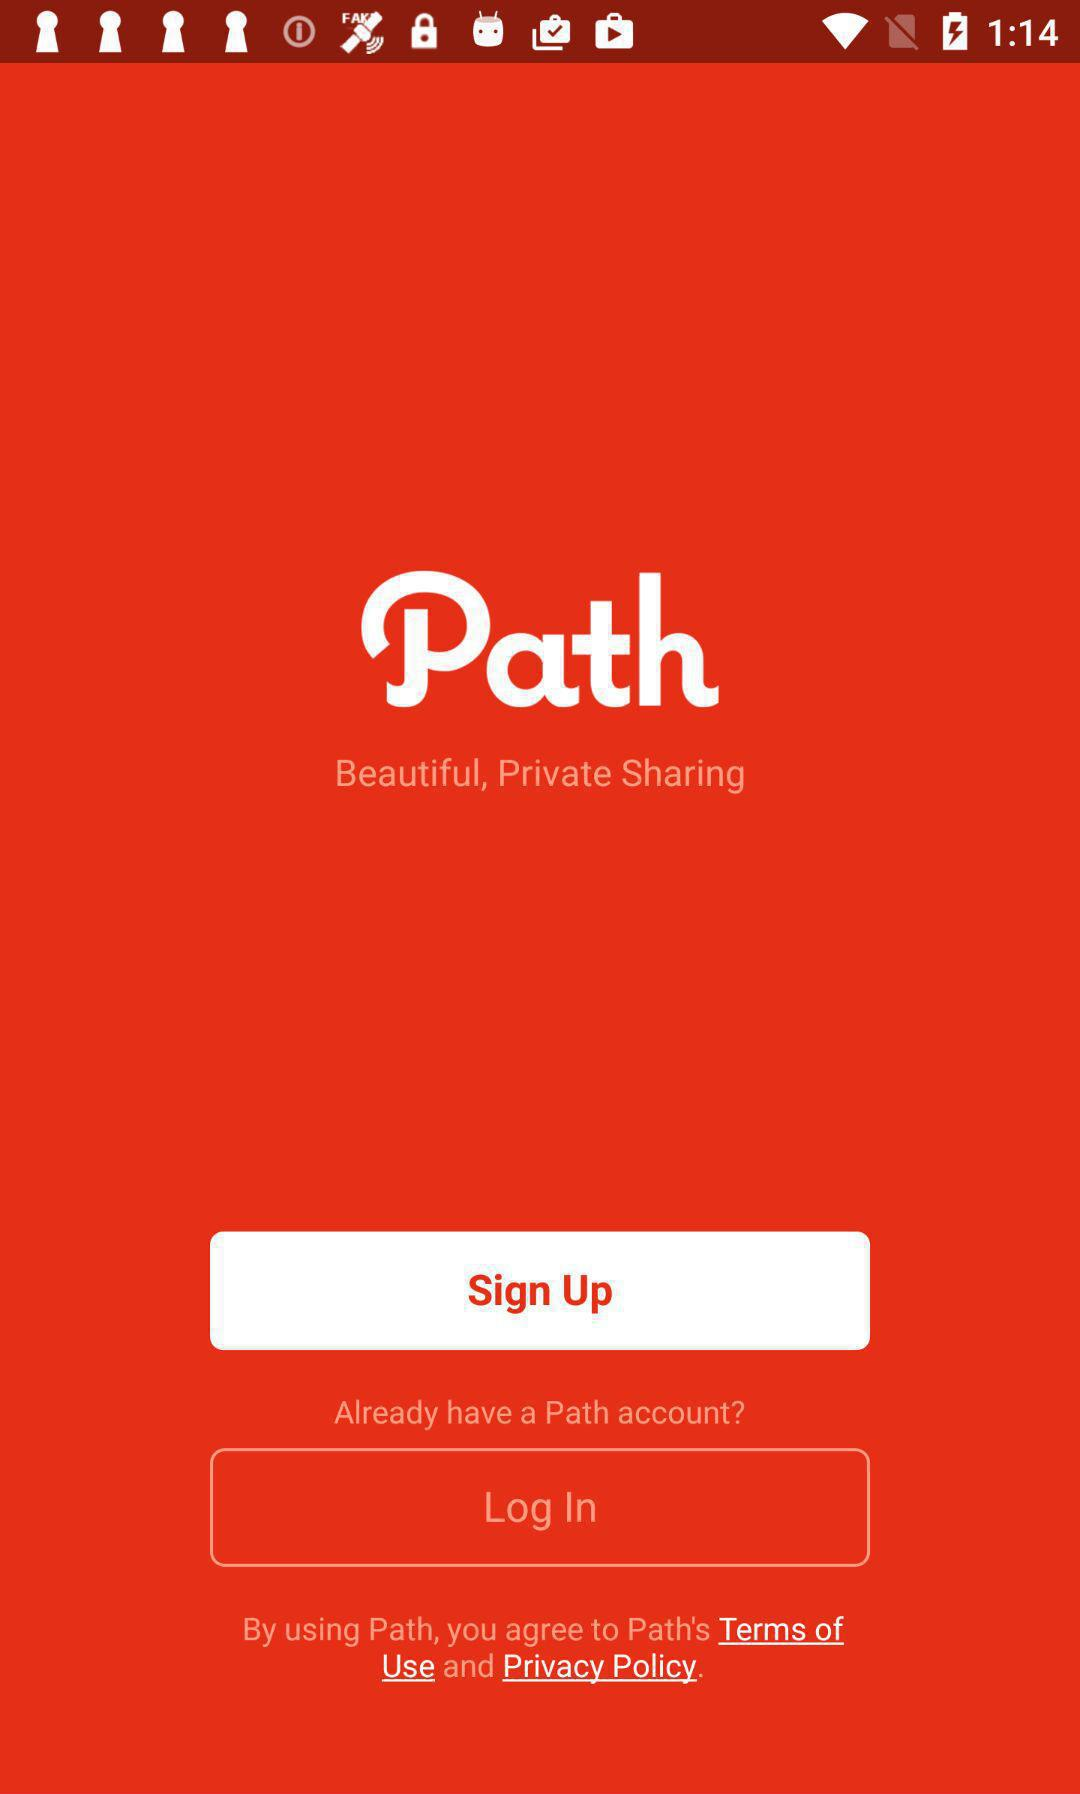Image: (361, 568, 720, 712)
Text: (243, 1615, 846, 1686), (334, 756, 746, 797), (333, 1395, 746, 1433)
TextButton: (211, 1448, 870, 1568), (210, 1231, 871, 1351)
UpperTaskBar: (1, 1, 1080, 64)
